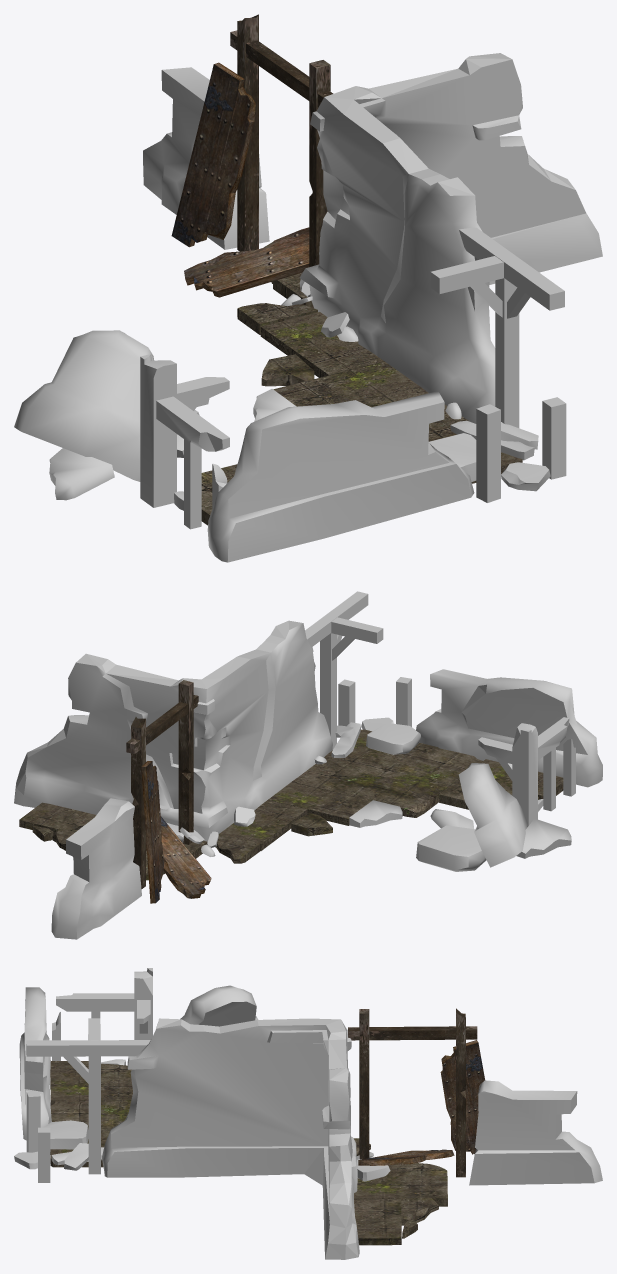
Rendered from zshh_poqiang_1.FBX.
3 renders of one model, top to bottom at view 1: azimuth 30°, elevation 25°; view 2: azimuth 150°, elevation 25°; view 3: azimuth 270°, elevation 25°, orthographic. The views are drawn at different scales.
Visible parts, largest first — view 1: zshh_poqiang_02, zshh_poqiang_01; view 2: zshh_poqiang_02, zshh_poqiang_01; view 3: zshh_poqiang_02, zshh_poqiang_01.
Part boxes in pixels (x1=…): zshh_poqiang_02: x1=14, y1=53, x2=602, y2=562; zshh_poqiang_01: x1=171, y1=14, x2=522, y2=525; zshh_poqiang_02: x1=14, y1=591, x2=602, y2=939; zshh_poqiang_01: x1=19, y1=680, x2=563, y2=903; zshh_poqiang_02: x1=14, y1=968, x2=602, y2=1259; zshh_poqiang_01: x1=50, y1=1008, x2=484, y2=1245.
Bounding box in the file's own units: 1059 × 1179 × 375.
